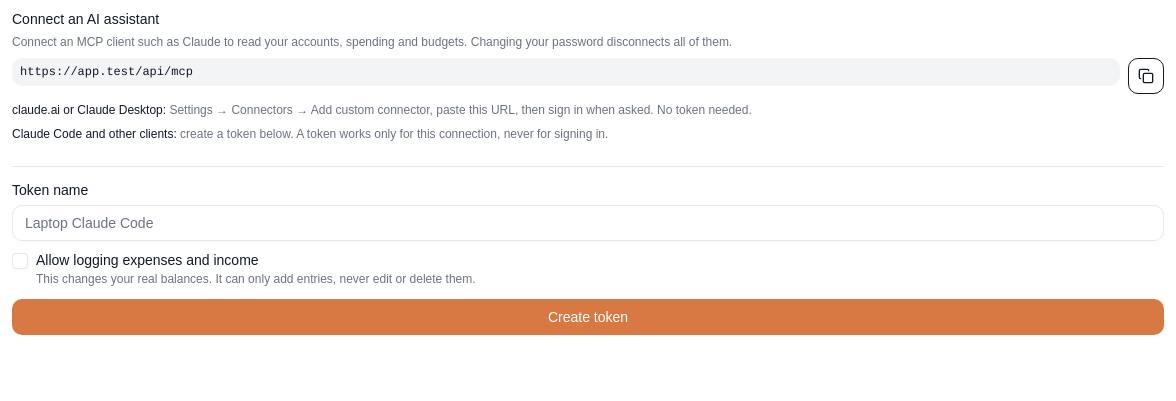
Scenario: McpTokenSettings › shows the raw token once, then forgets it when the tab closes
Step 1. Type "Laptop" into the field labelled "Token name" → coordinates (588, 223), box [12,205,1164,241]
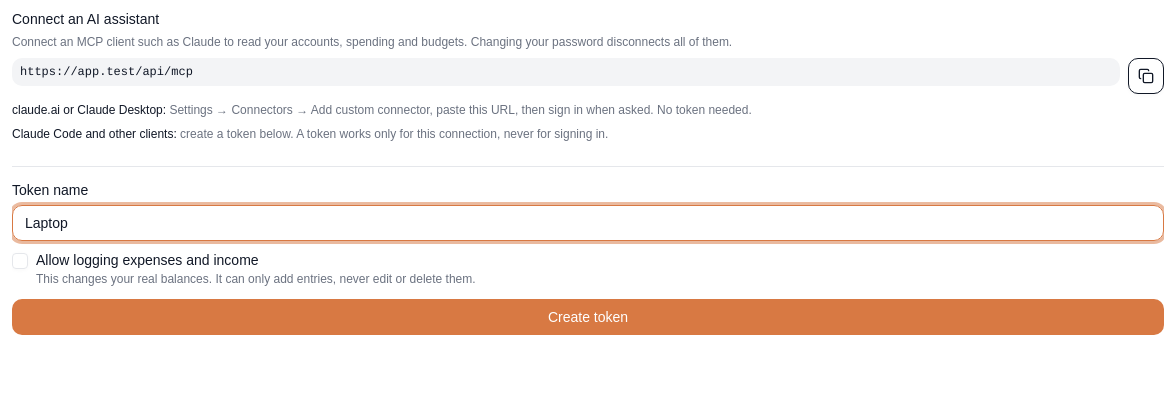
Step 2. Click the button "Create token" → coordinates (588, 317), box [12,299,1164,335]
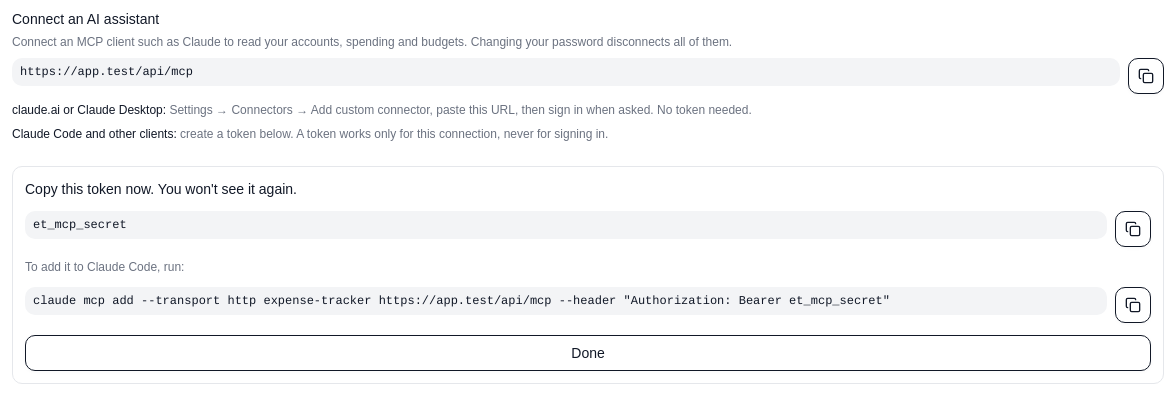
Now the text "et_mcp_secret" is shown, box [25,211,1107,239]
